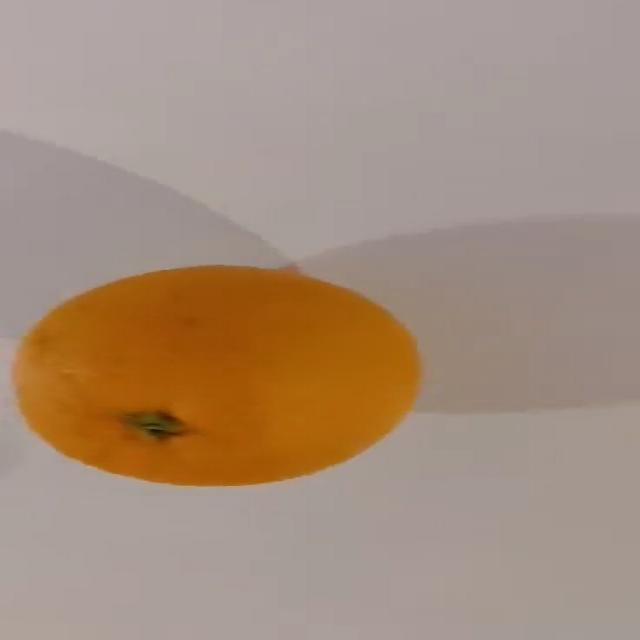Orange: (10, 262, 423, 487)
